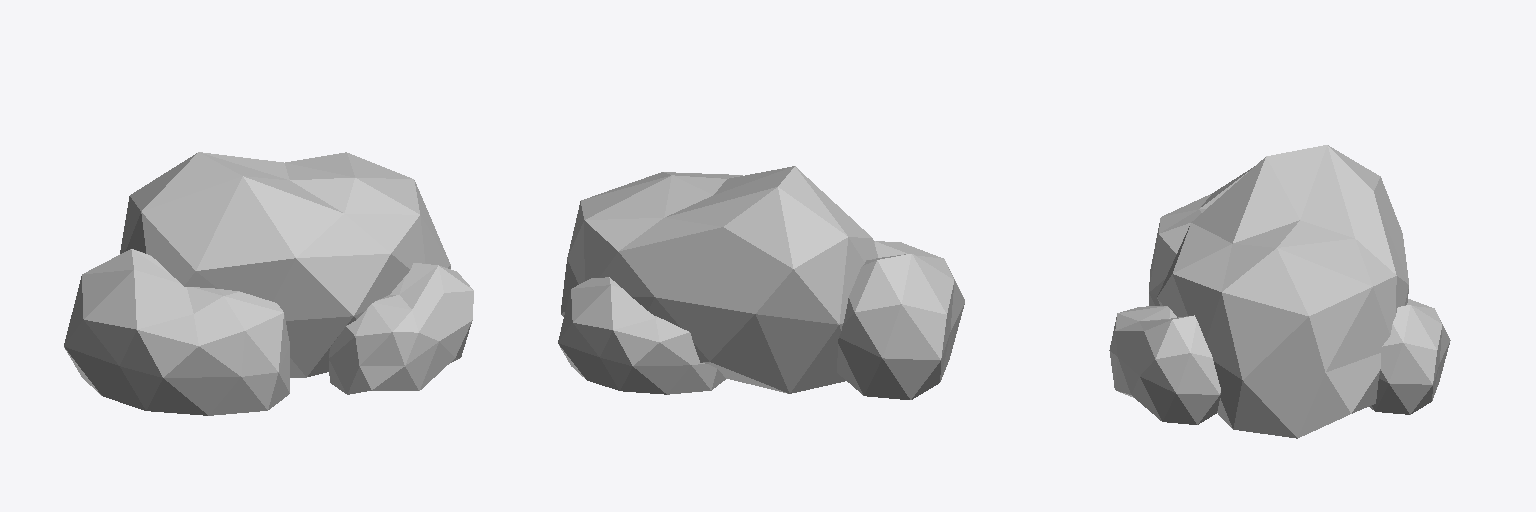
File: Rock.obj
3 views of the same model, side by side, from view 1: azimuth 30°, elevation 25°; view 2: azimuth 150°, elevation 25°; view 3: azimuth 270°, elevation 25° (orthographic).
Parts seen in each view (by area): view 1: Icosphere; view 2: Icosphere; view 3: Icosphere.
Boxes of the visible parts, x1=… form: Icosphere: x1=64, y1=152, x2=473, y2=415; Icosphere: x1=558, y1=166, x2=964, y2=399; Icosphere: x1=1109, y1=145, x2=1450, y2=438.
Bounding box in the file's own units: 2.87 × 1.43 × 2.32.